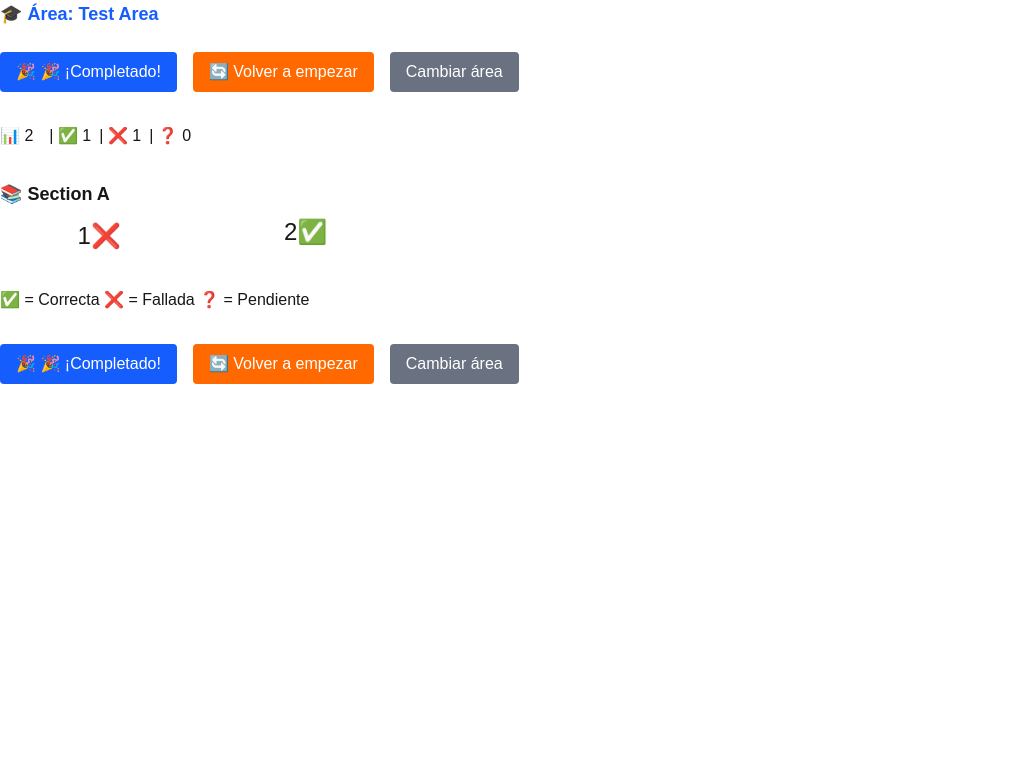
StatusGrid overlay BUG-007 › shows user answer as letter, not full text, when it is a full text string
The image size is (1024, 768).
Click on the failed question
Click the text "1❌".
click(99, 236)  # box [78,220,121,252]
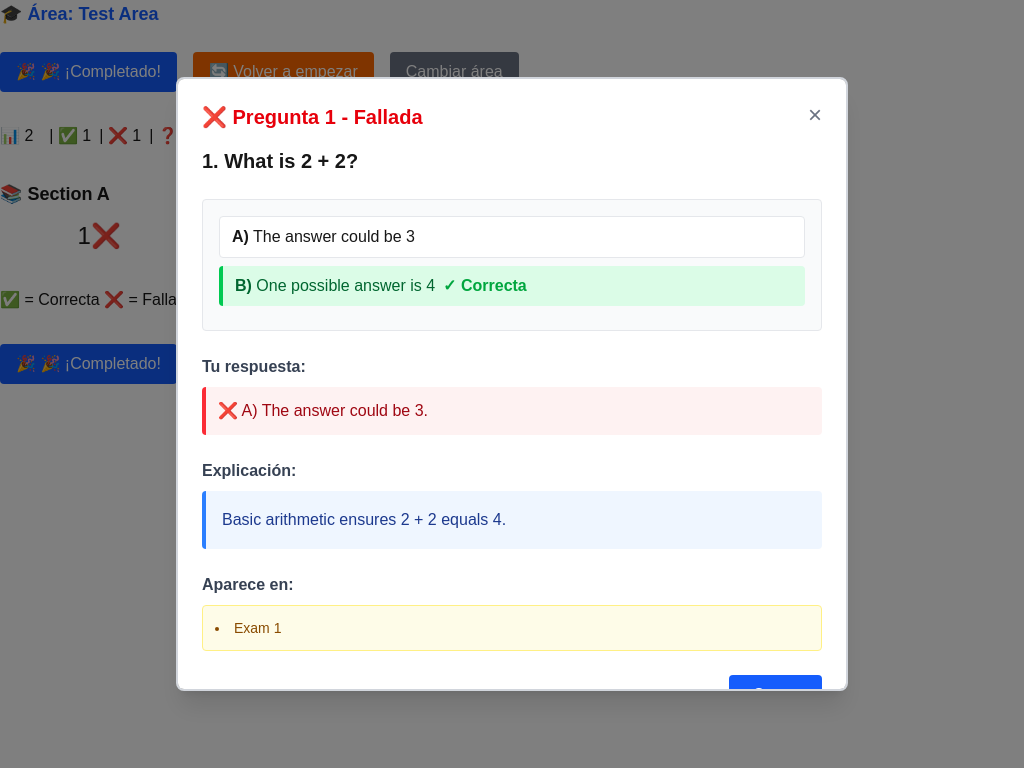
Expected: the text with test id "failed-answer-text" reads "❌ A) The answer could be 3.", [218,402,428,419]
